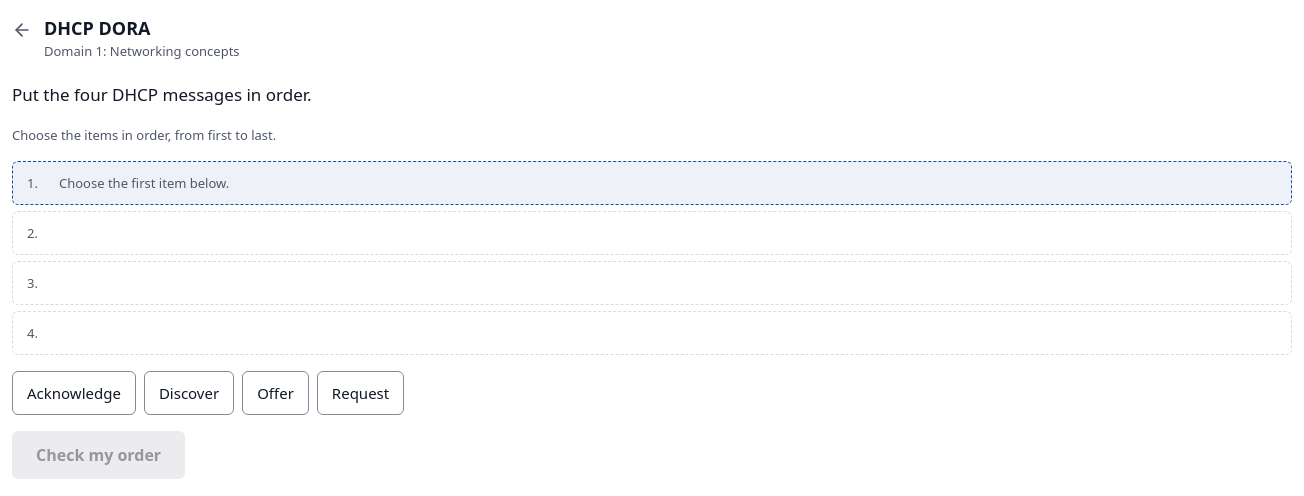
Scenario: ordering PBQs › sends a placed item back with a press, without moving the other choices
Click the button "Offer".
click(275, 393)  # box [242, 371, 309, 415]
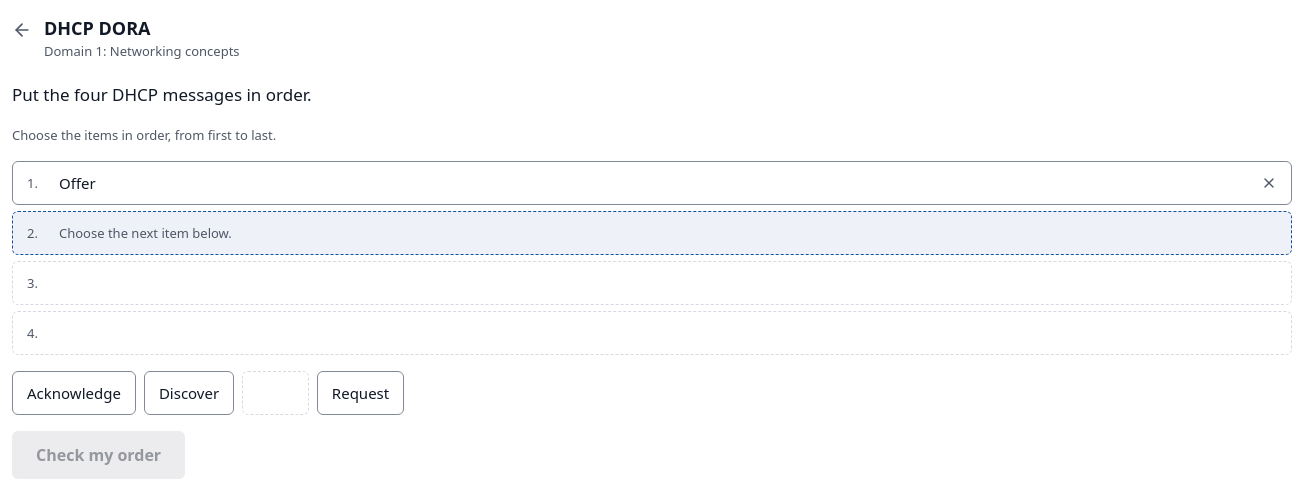
Click the button with aria-label "1. Offer. Choose this row to remove it.".
click(77, 183)  # box [12, 161, 1292, 205]
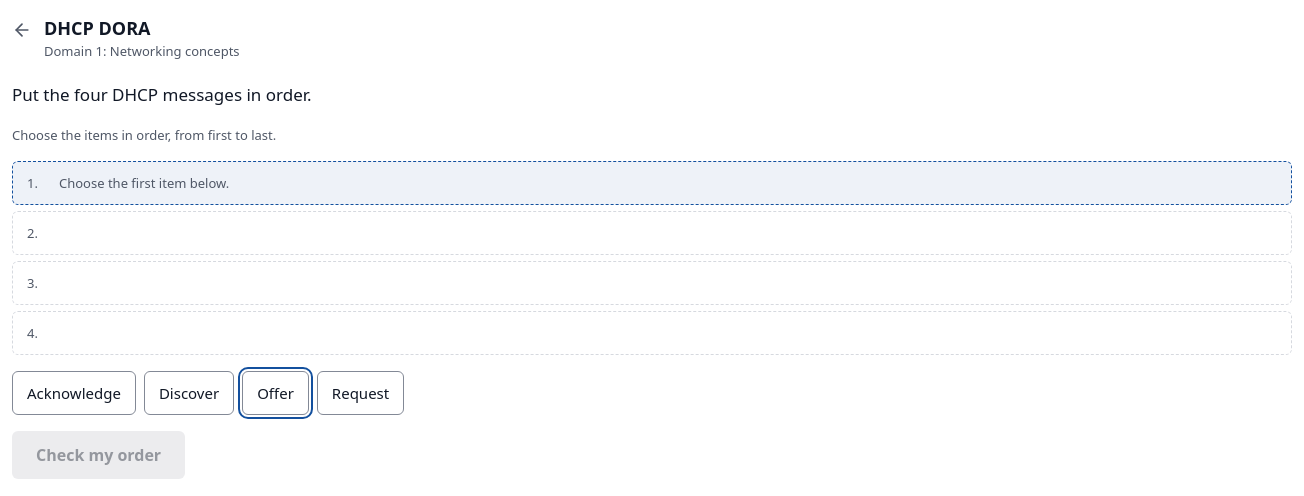
Result: the buttons read "Acknowledge", "Discover", "Offer", "Request", in this order at [12, 371, 136, 415]; [144, 371, 234, 415]; [242, 371, 309, 415]; [317, 371, 404, 415]
